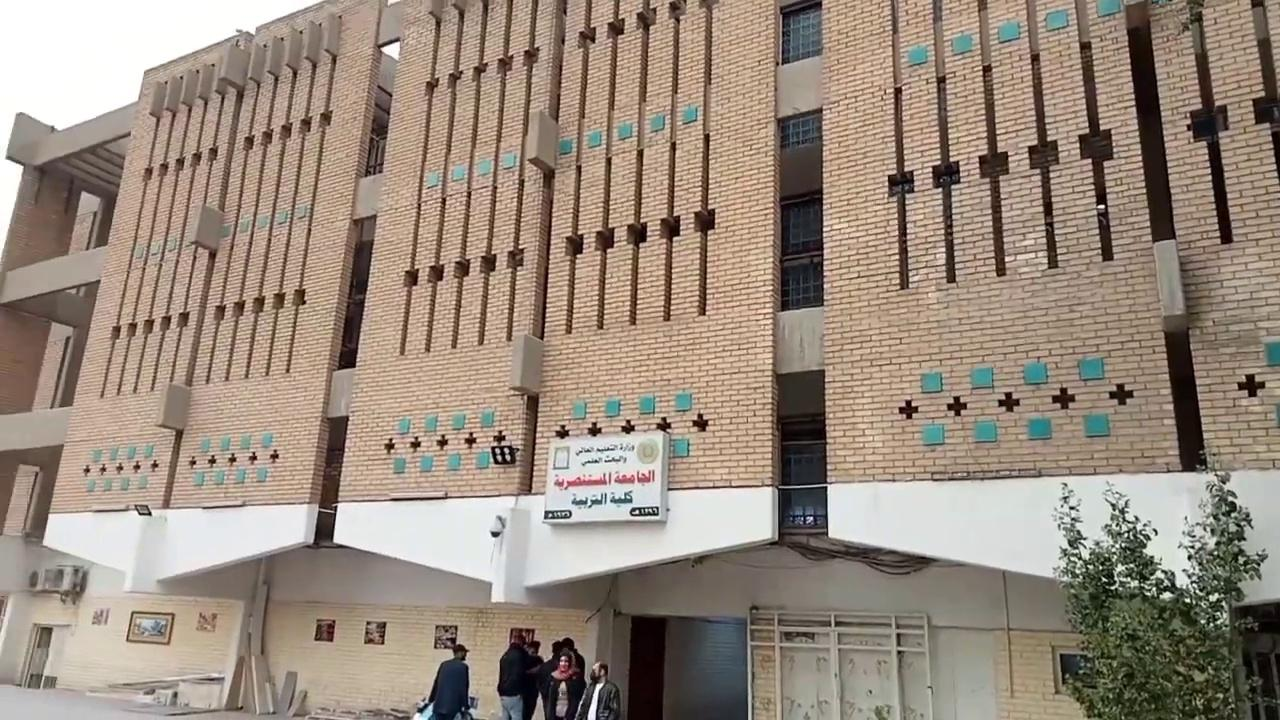person: (496, 628, 542, 719), (424, 643, 471, 719), (543, 650, 586, 719), (574, 661, 621, 719)
tree: (1049, 452, 1273, 718), (1174, 452, 1270, 718)
